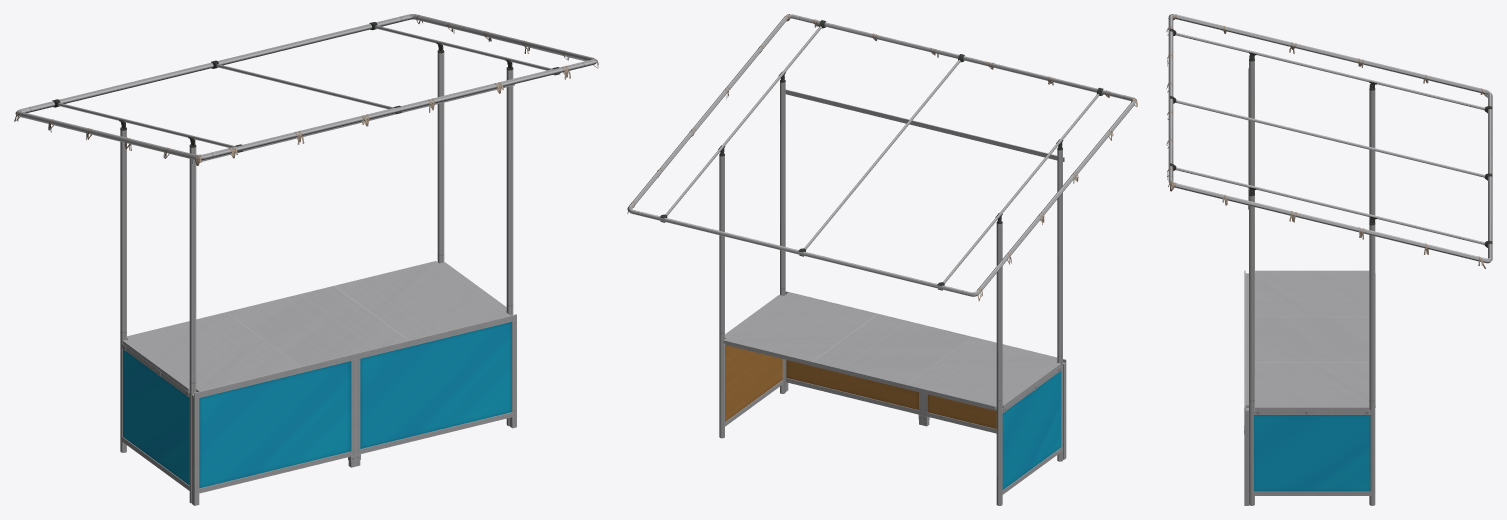
File: jsf_4P_s02_c02_t01.fbx
3 views of the same model, side by side, from view 1: azimuth 30°, elevation 25°; view 2: azimuth 150°, elevation 25°; view 3: azimuth 270°, elevation 25° (orthographic). The views are drawn at different scales.
Parts seen in each view (by area): view 1: Base_s02_c02, Table_4P_s02_t01, Pillar4_s02, Rope_4P_s02; view 2: Table_4P_s02_t01, Pillar4_s02, Base_s02_c02, Rope_4P_s02; view 3: Table_4P_s02_t01, Pillar4_s02, Base_s02_c02, Rope_4P_s02.
Boxes of the visible parts, x1,y1,x2,y2 form: Base_s02_c02: (121, 314, 516, 505); Table_4P_s02_t01: (122, 261, 509, 396); Pillar4_s02: (15, 14, 596, 503); Rope_4P_s02: (14, 15, 598, 165); Table_4P_s02_t01: (723, 292, 1061, 412); Pillar4_s02: (627, 14, 1136, 505); Base_s02_c02: (725, 291, 1066, 494); Rope_4P_s02: (627, 14, 1137, 300); Table_4P_s02_t01: (1245, 270, 1375, 414); Pillar4_s02: (1168, 14, 1492, 505); Base_s02_c02: (1244, 270, 1371, 505); Rope_4P_s02: (1166, 14, 1487, 268).
Size of the model in its own units: 264 by 243 by 211.
